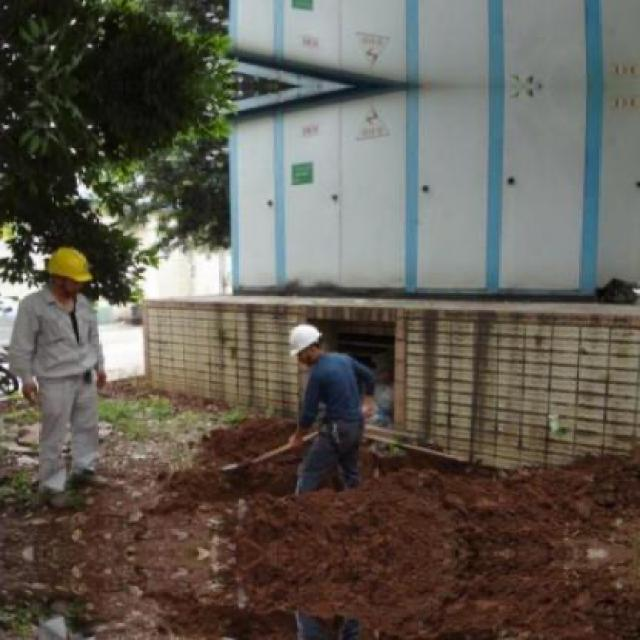helmet: (43, 242, 94, 304), (288, 322, 326, 366)
